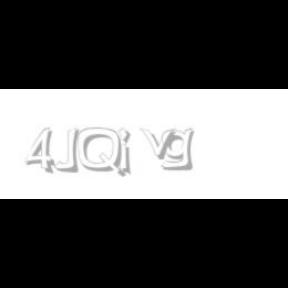4: (24, 128, 56, 174)
J: (54, 128, 78, 172)
Q: (78, 128, 124, 178)
g: (161, 128, 198, 171)
i: (118, 128, 134, 176)
v: (140, 128, 180, 160)
